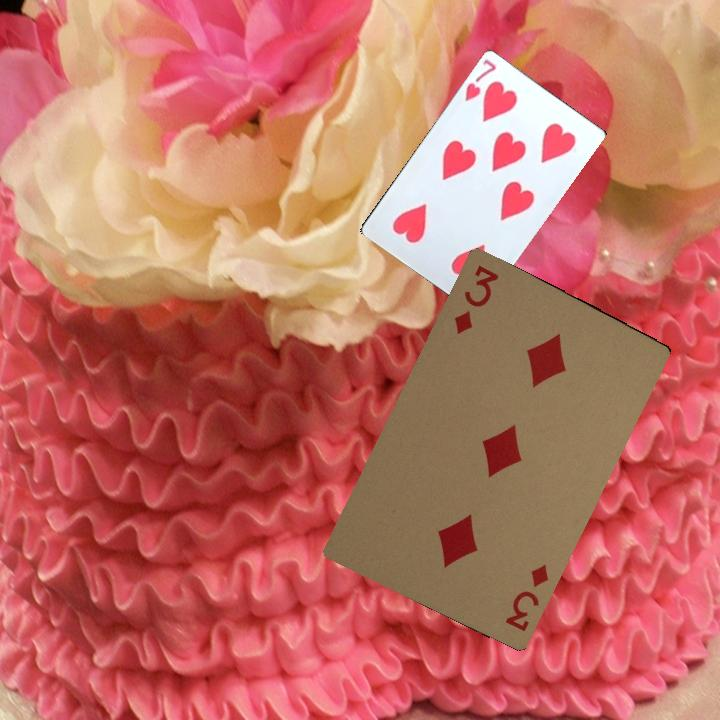3d: (450, 261, 502, 337), (501, 560, 552, 634)
7h: (461, 55, 499, 104)
